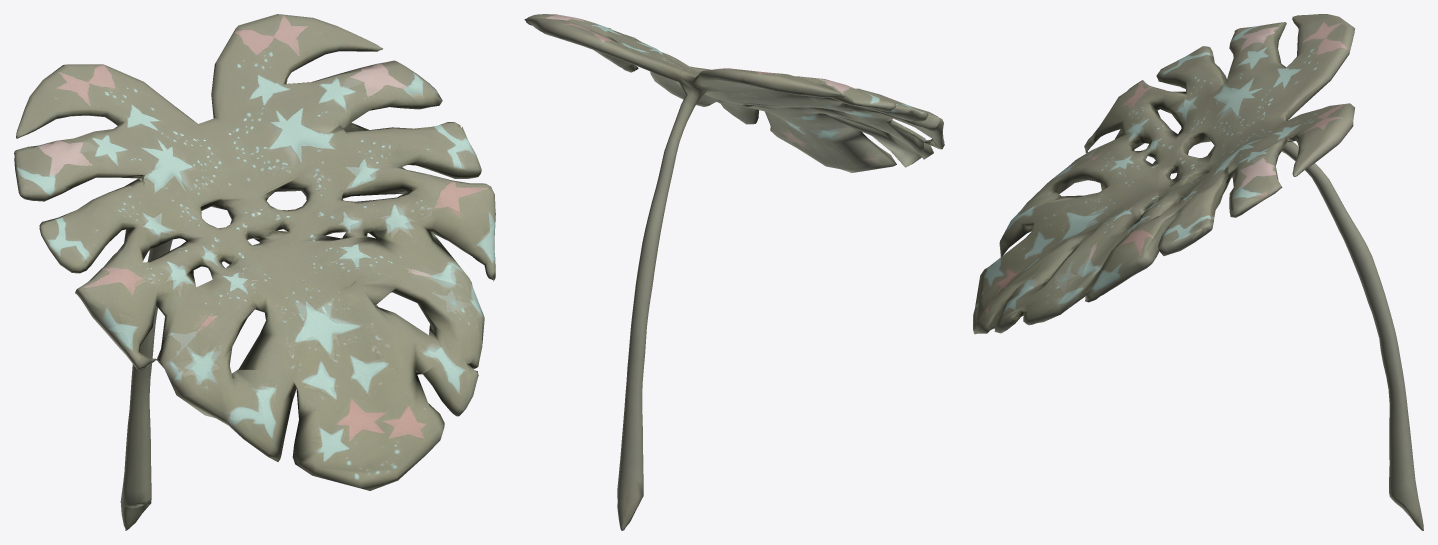
File: mon_star_palegreen_v2.glb
3 renders of one model, left to right at view 1: azimuth 30°, elevation 25°; view 2: azimuth 150°, elevation 25°; view 3: azimuth 270°, elevation 25°, orthographic. The views are drawn at different scales.
Visible parts, largest first — view 1: world; view 2: world; view 3: world.
Part boxes in pixels (x1,y1,x2,y2): world: [14, 14, 495, 530]; world: [524, 14, 944, 530]; world: [973, 14, 1423, 530].
Bounding box in the file's own units: 1.7 × 2 × 1.77.
1 material, 1 textured.
